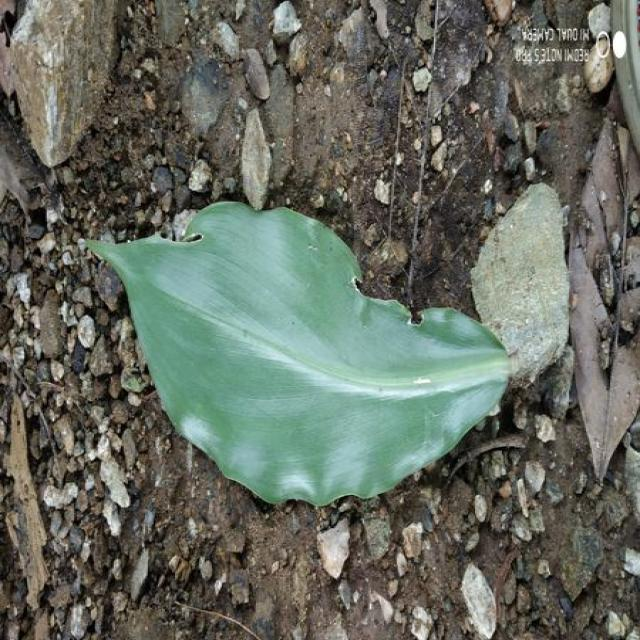insulin: (92, 202, 508, 505)
